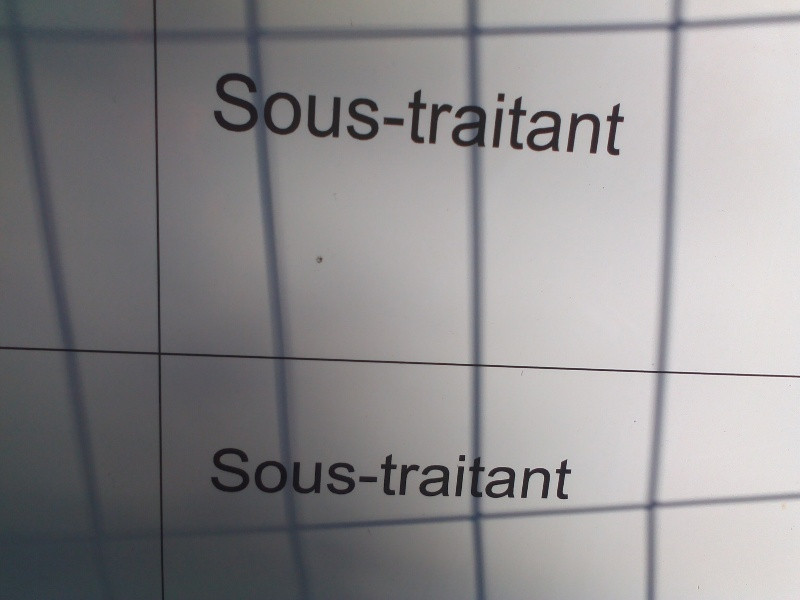text: (225, 73, 240, 159), (241, 73, 256, 159), (257, 73, 272, 159), (273, 73, 288, 159), (289, 73, 304, 159), (305, 73, 320, 159), (321, 73, 336, 159), (337, 73, 352, 159), (353, 73, 368, 159), (369, 73, 384, 159), (385, 73, 400, 159), (401, 73, 416, 159), (417, 73, 432, 159), (433, 73, 448, 159), (449, 73, 464, 159), (465, 73, 480, 159), (481, 73, 496, 159), (497, 73, 512, 159), (513, 73, 528, 159), (529, 73, 544, 159), (545, 73, 560, 159), (561, 73, 576, 159), (577, 73, 592, 159), (593, 73, 608, 159), (609, 73, 624, 159), (225, 443, 240, 503), (241, 443, 256, 503), (257, 443, 272, 503), (273, 443, 288, 503), (289, 443, 304, 503), (305, 443, 320, 503), (321, 443, 336, 503), (337, 443, 352, 503), (353, 443, 368, 503), (369, 443, 384, 503), (385, 443, 400, 503), (401, 443, 416, 503), (417, 443, 432, 503), (433, 443, 448, 503), (449, 443, 464, 503), (465, 443, 480, 503), (481, 443, 496, 503), (497, 443, 512, 503), (513, 443, 528, 503), (529, 443, 544, 503), (545, 443, 560, 503), (561, 443, 574, 503), (213, 443, 224, 503), (217, 73, 224, 159), (625, 73, 631, 159)
